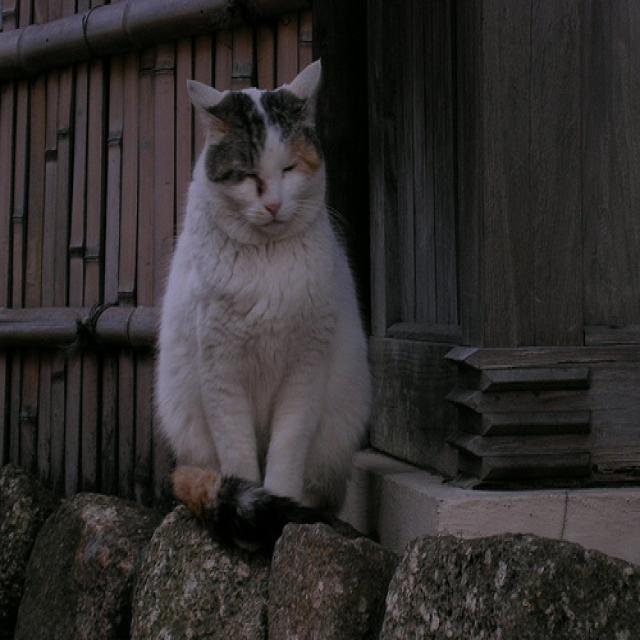left eye: (279, 157, 298, 176)
